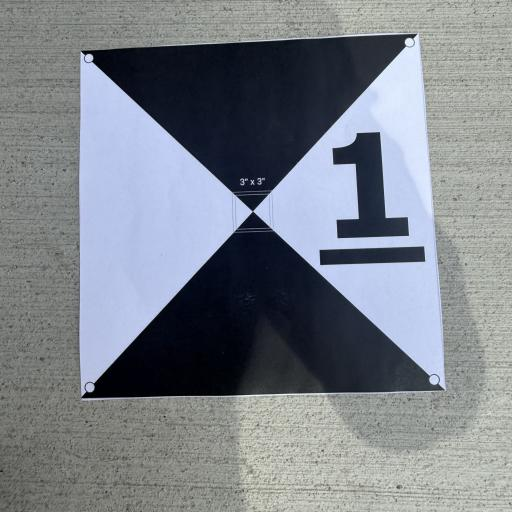target1: (68, 40, 454, 407)
